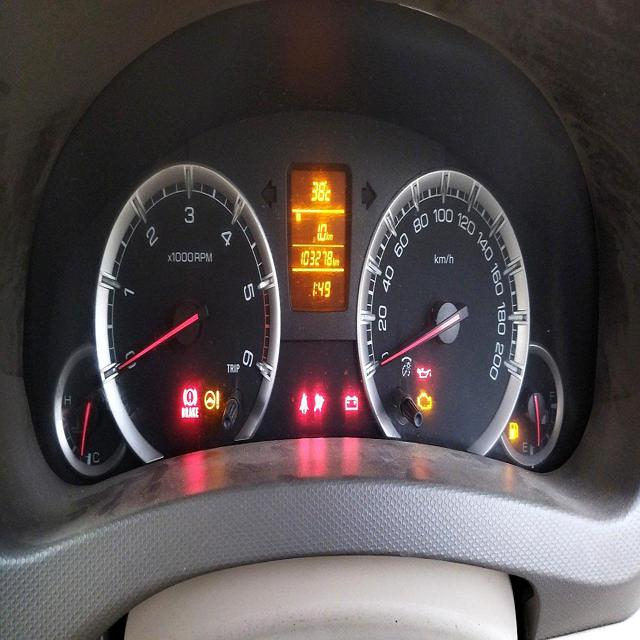odometer: (298, 248, 334, 273)
